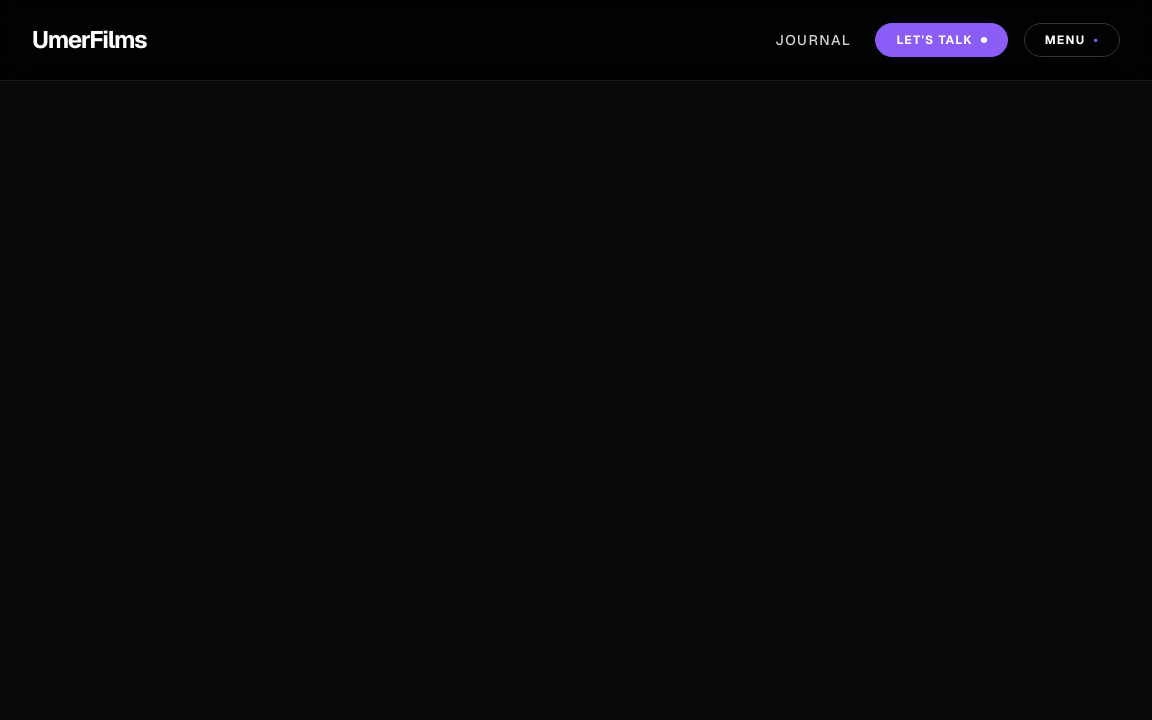
it: Navigation › Off-Canvas Menu › opens off-canvas menu on button click
Note: Click to open
Click the button with aria-label "toggle navigation menu". click: x=1072, y=40
box: top-left (1024, 23), bottom-right (1120, 57)
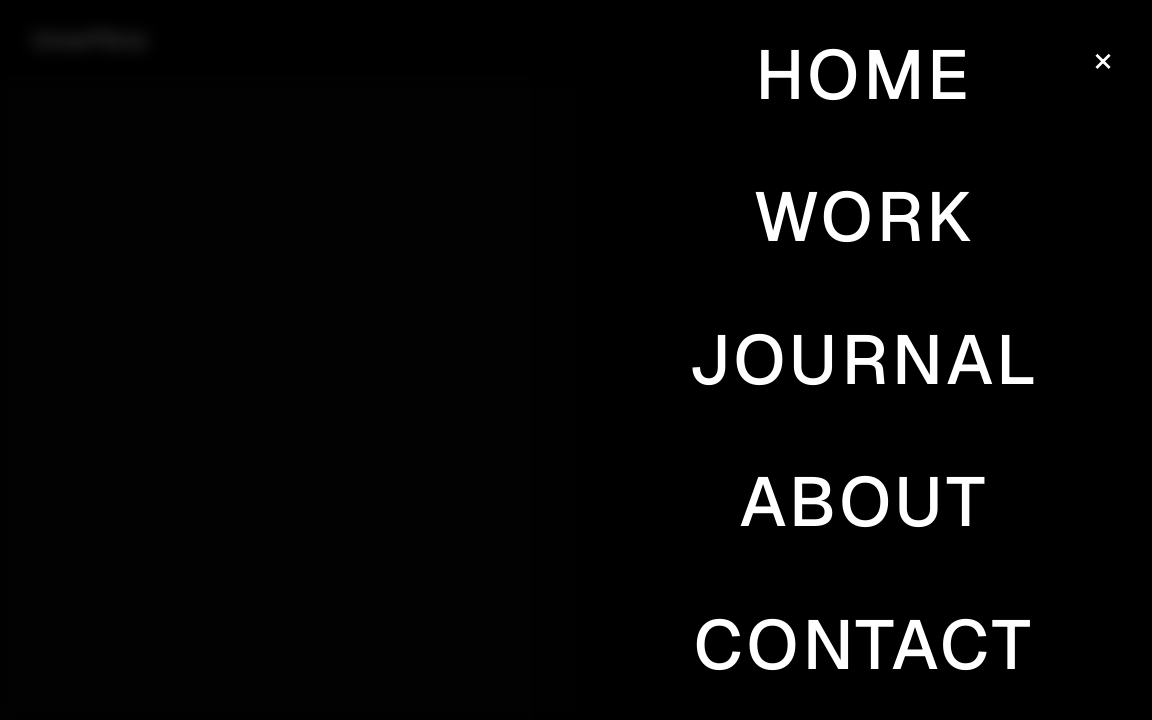
Check: the button with aria-label "toggle navigation menu" is expanded, box top-left (1024, 23), bottom-right (1120, 57)
Check: the dialog is shown, box top-left (576, 0), bottom-right (1151, 719)
